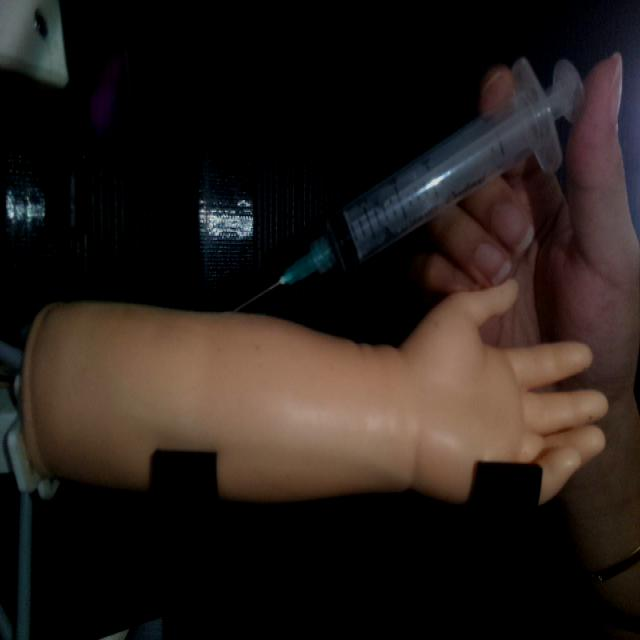Above 30 degrees: (228, 54, 585, 314)
